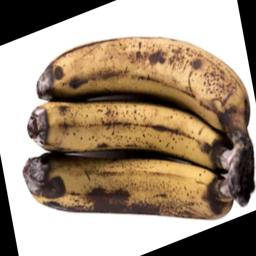Banana Rotten: (12, 37, 256, 232)
